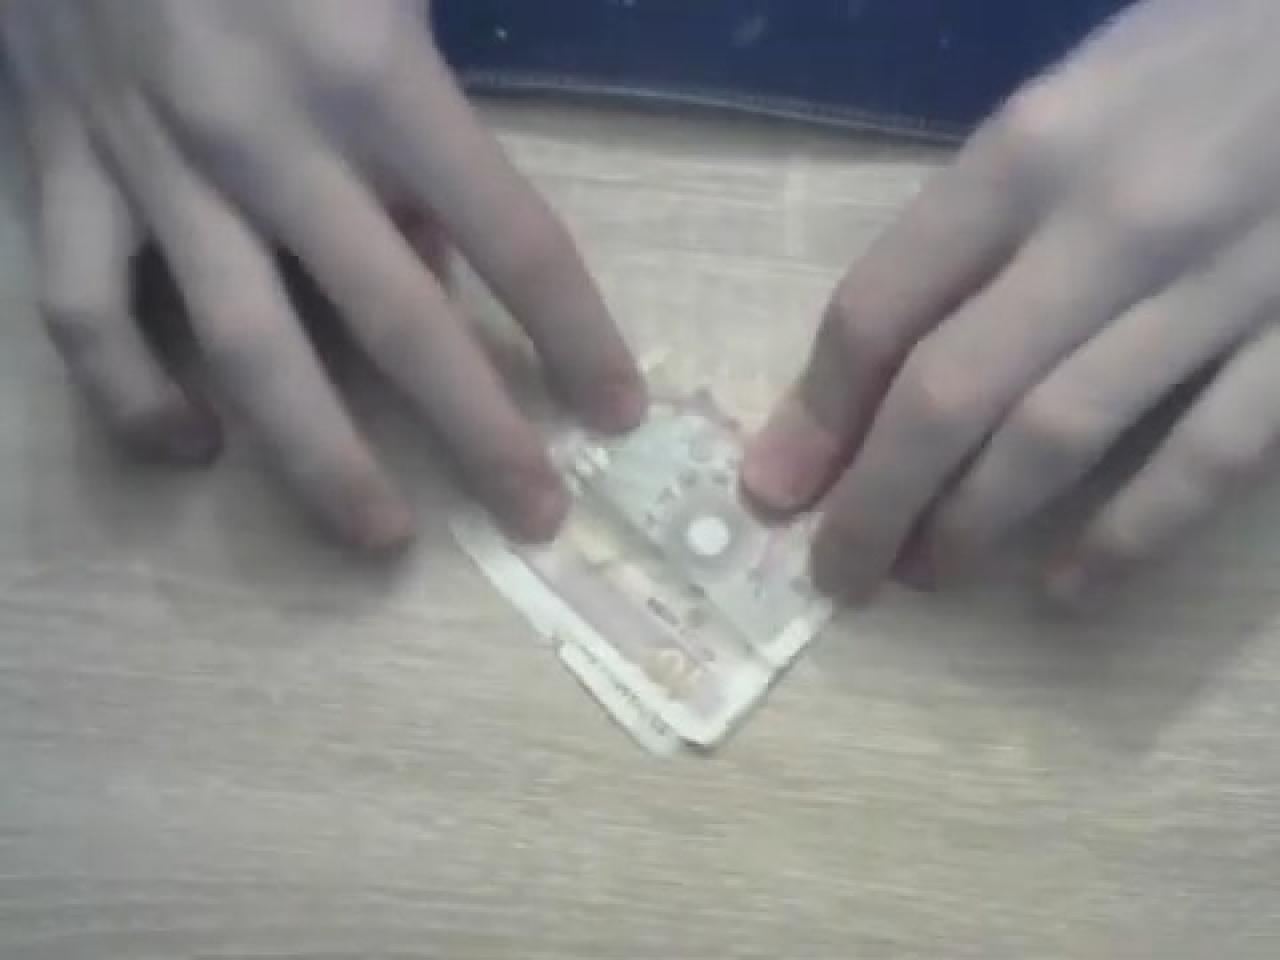10leva: (451, 389, 833, 757)
